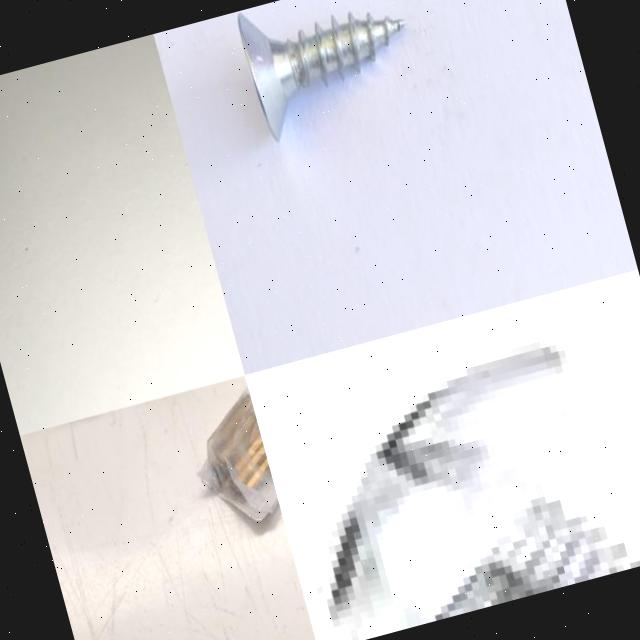Screw: (307, 339, 640, 640), (236, 11, 404, 140)
